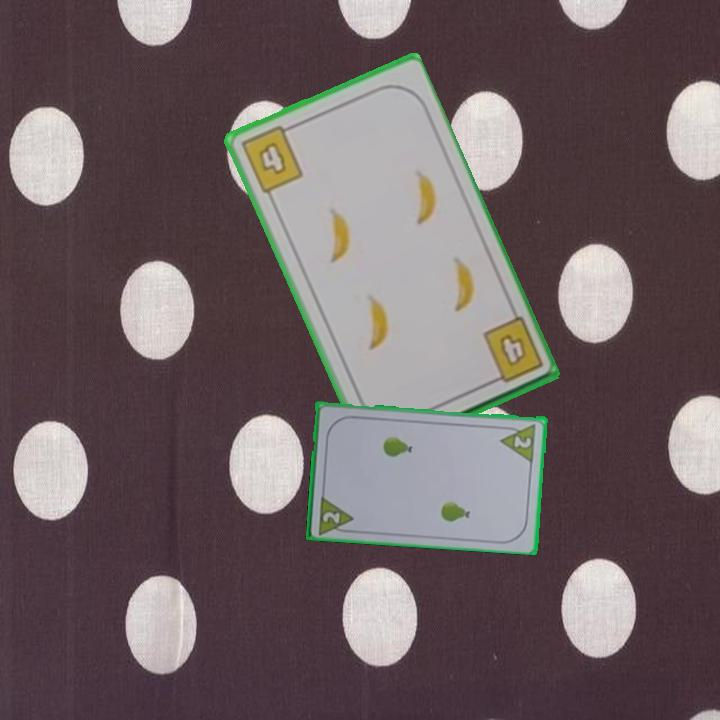2p: (315, 491, 357, 536), (497, 420, 539, 464)
4b: (237, 121, 306, 196), (478, 313, 546, 388)
